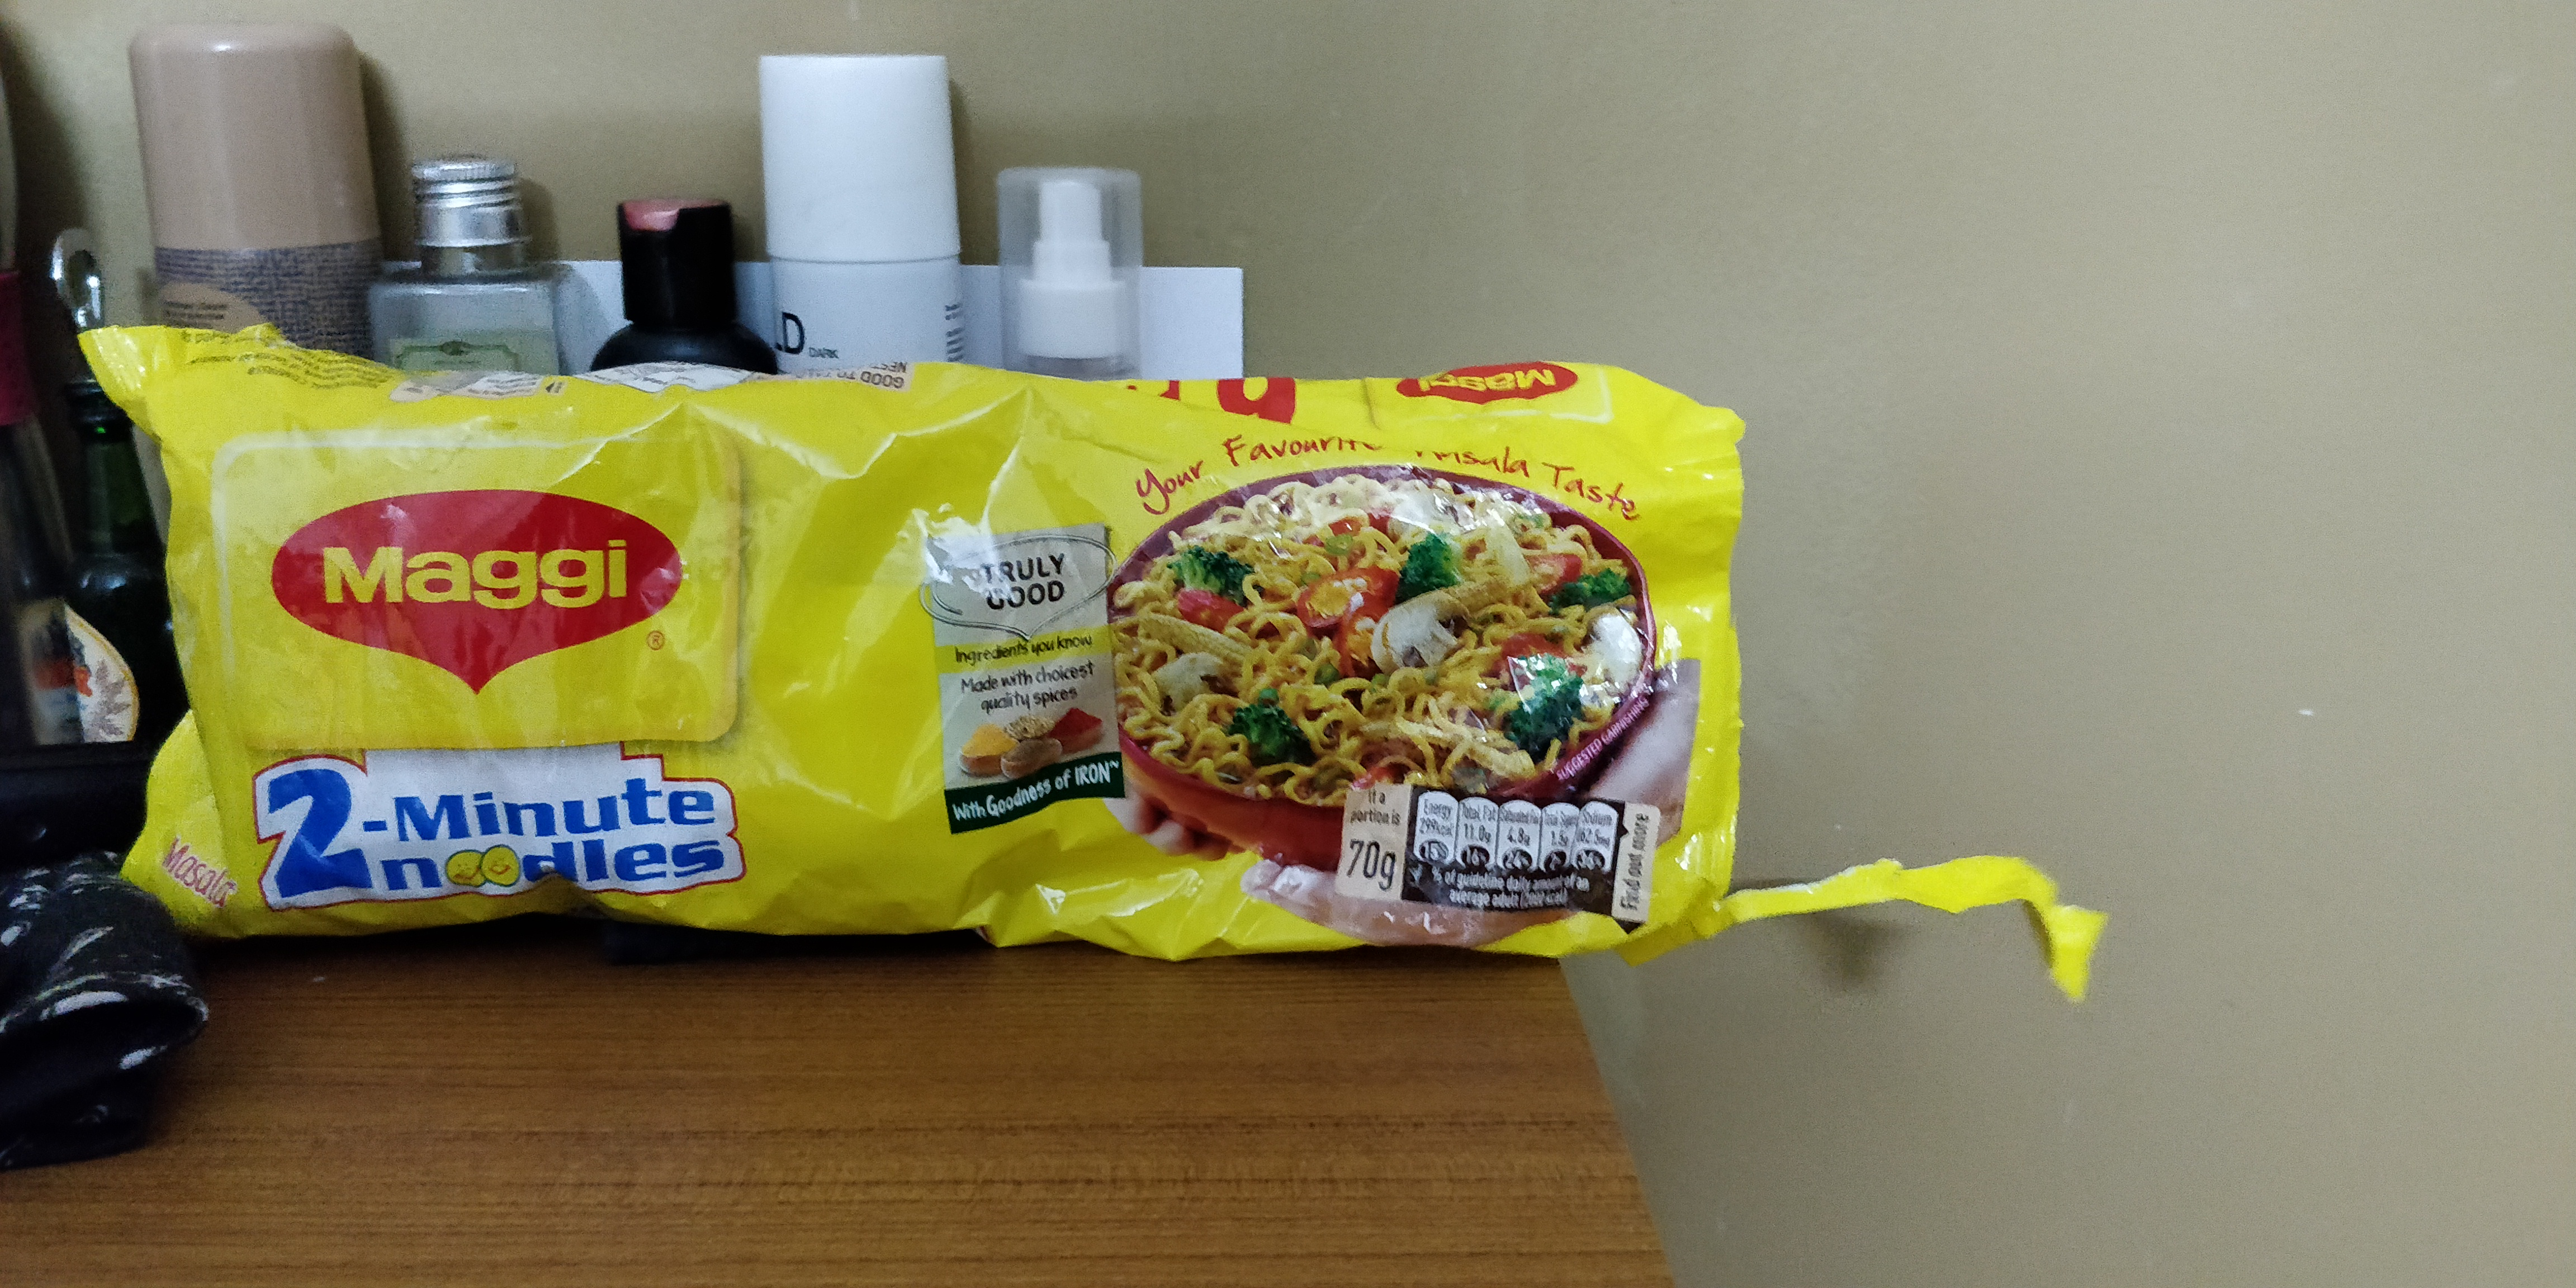maggie: (86, 340, 1830, 1003)
